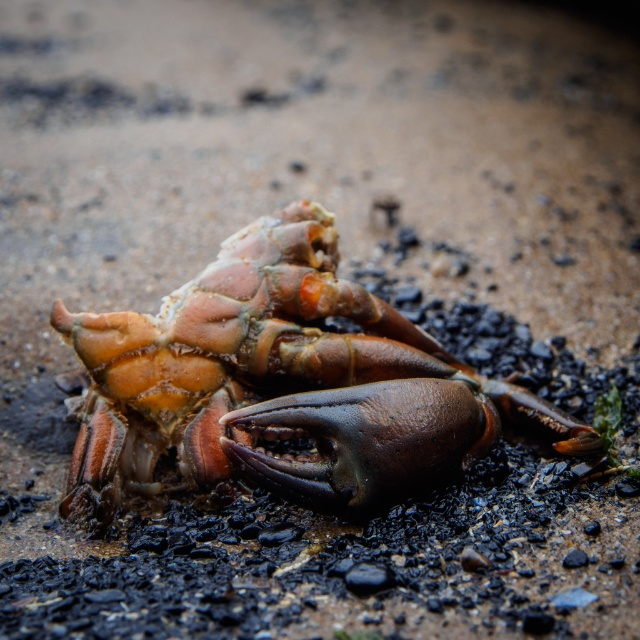Crab: (49, 195, 611, 528)
